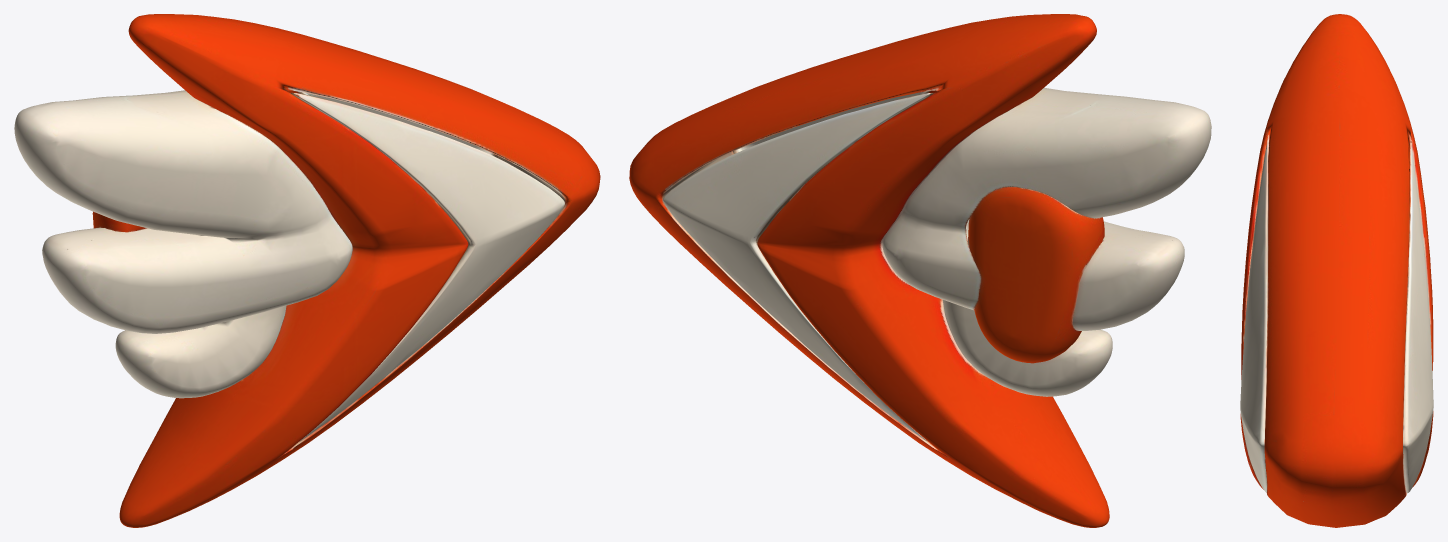
Rendered from mark_speed.glb.
The picture shows the model from 3 angles, left to right: view 1: azimuth 30°, elevation 25°; view 2: azimuth 150°, elevation 25°; view 3: azimuth 270°, elevation 25°; orthographic projection.
Visible parts, largest first — view 1: tripo_node_76536318-afe7-4648-94b4-4b02ffbd25f2; view 2: tripo_node_76536318-afe7-4648-94b4-4b02ffbd25f2; view 3: tripo_node_76536318-afe7-4648-94b4-4b02ffbd25f2.
Part boxes in pixels (x1=…): tripo_node_76536318-afe7-4648-94b4-4b02ffbd25f2: x1=14, y1=14, x2=600, y2=527; tripo_node_76536318-afe7-4648-94b4-4b02ffbd25f2: x1=629, y1=14, x2=1211, y2=527; tripo_node_76536318-afe7-4648-94b4-4b02ffbd25f2: x1=1240, y1=14, x2=1433, y2=527.
Bounding box in the file's own units: 0.9995 × 0.8462 × 0.2993.
Materials: 1 (1 with a texture image).
